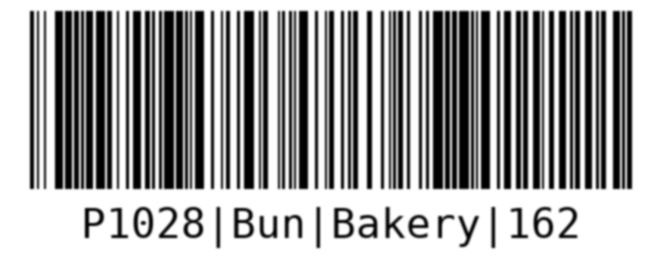milk: (26, 6, 637, 246)
